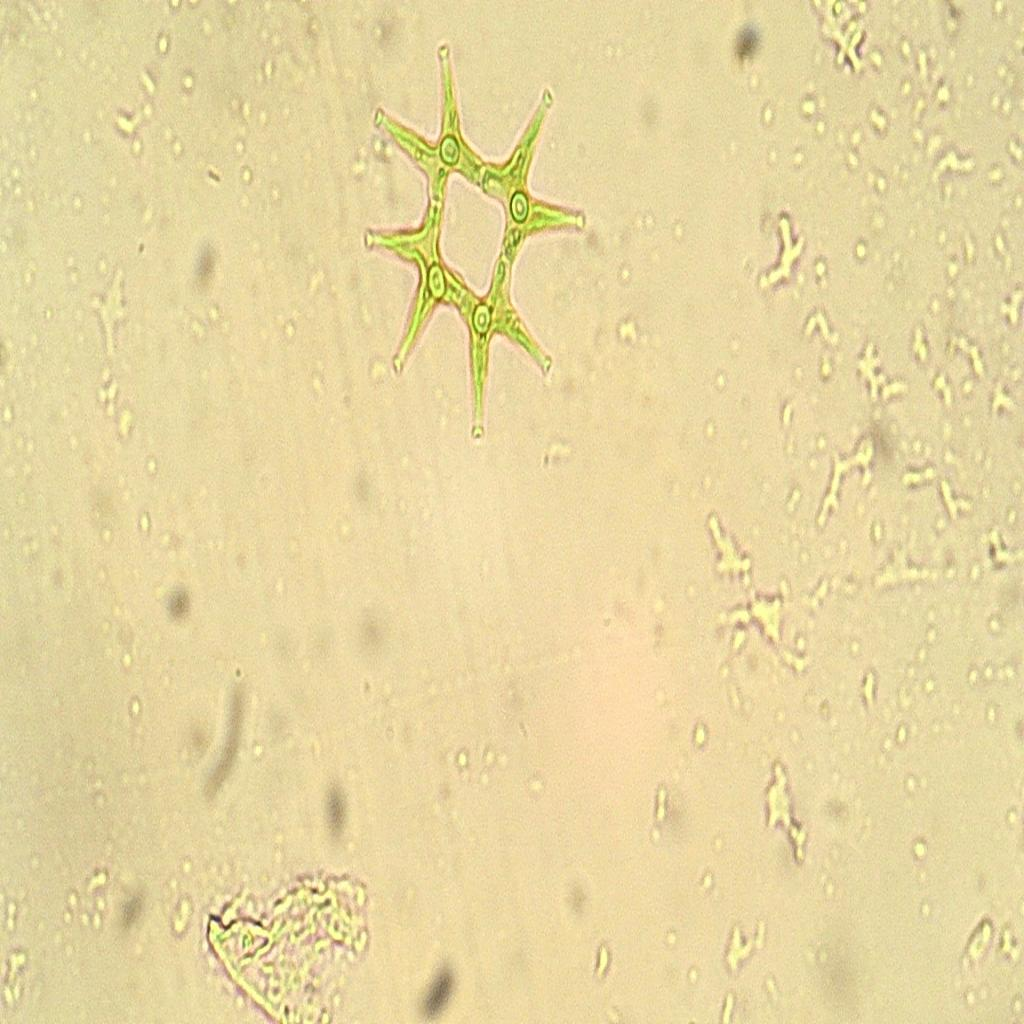Pediastrum_75O: (342, 34, 588, 456)
